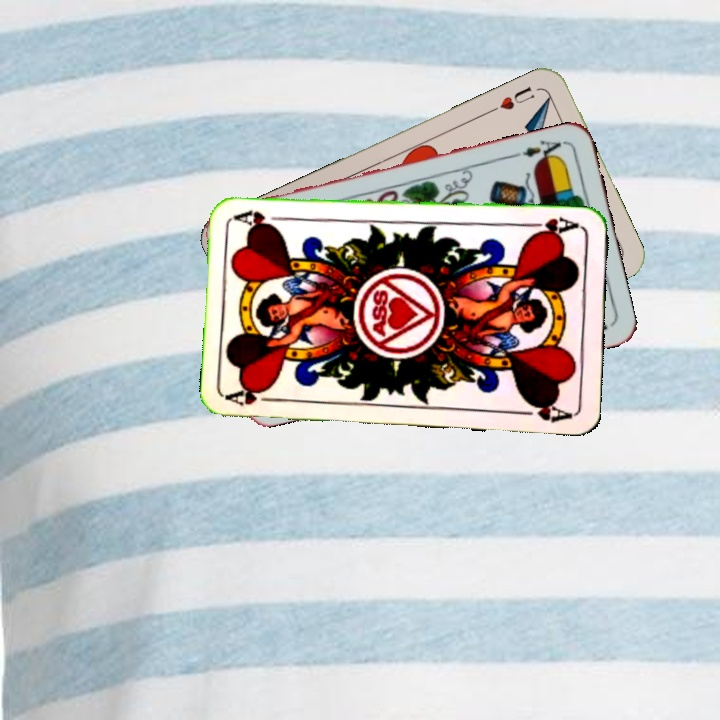EA: (509, 136, 568, 165)
HA: (224, 382, 284, 409), (524, 212, 583, 239)
HU: (495, 82, 537, 113)
